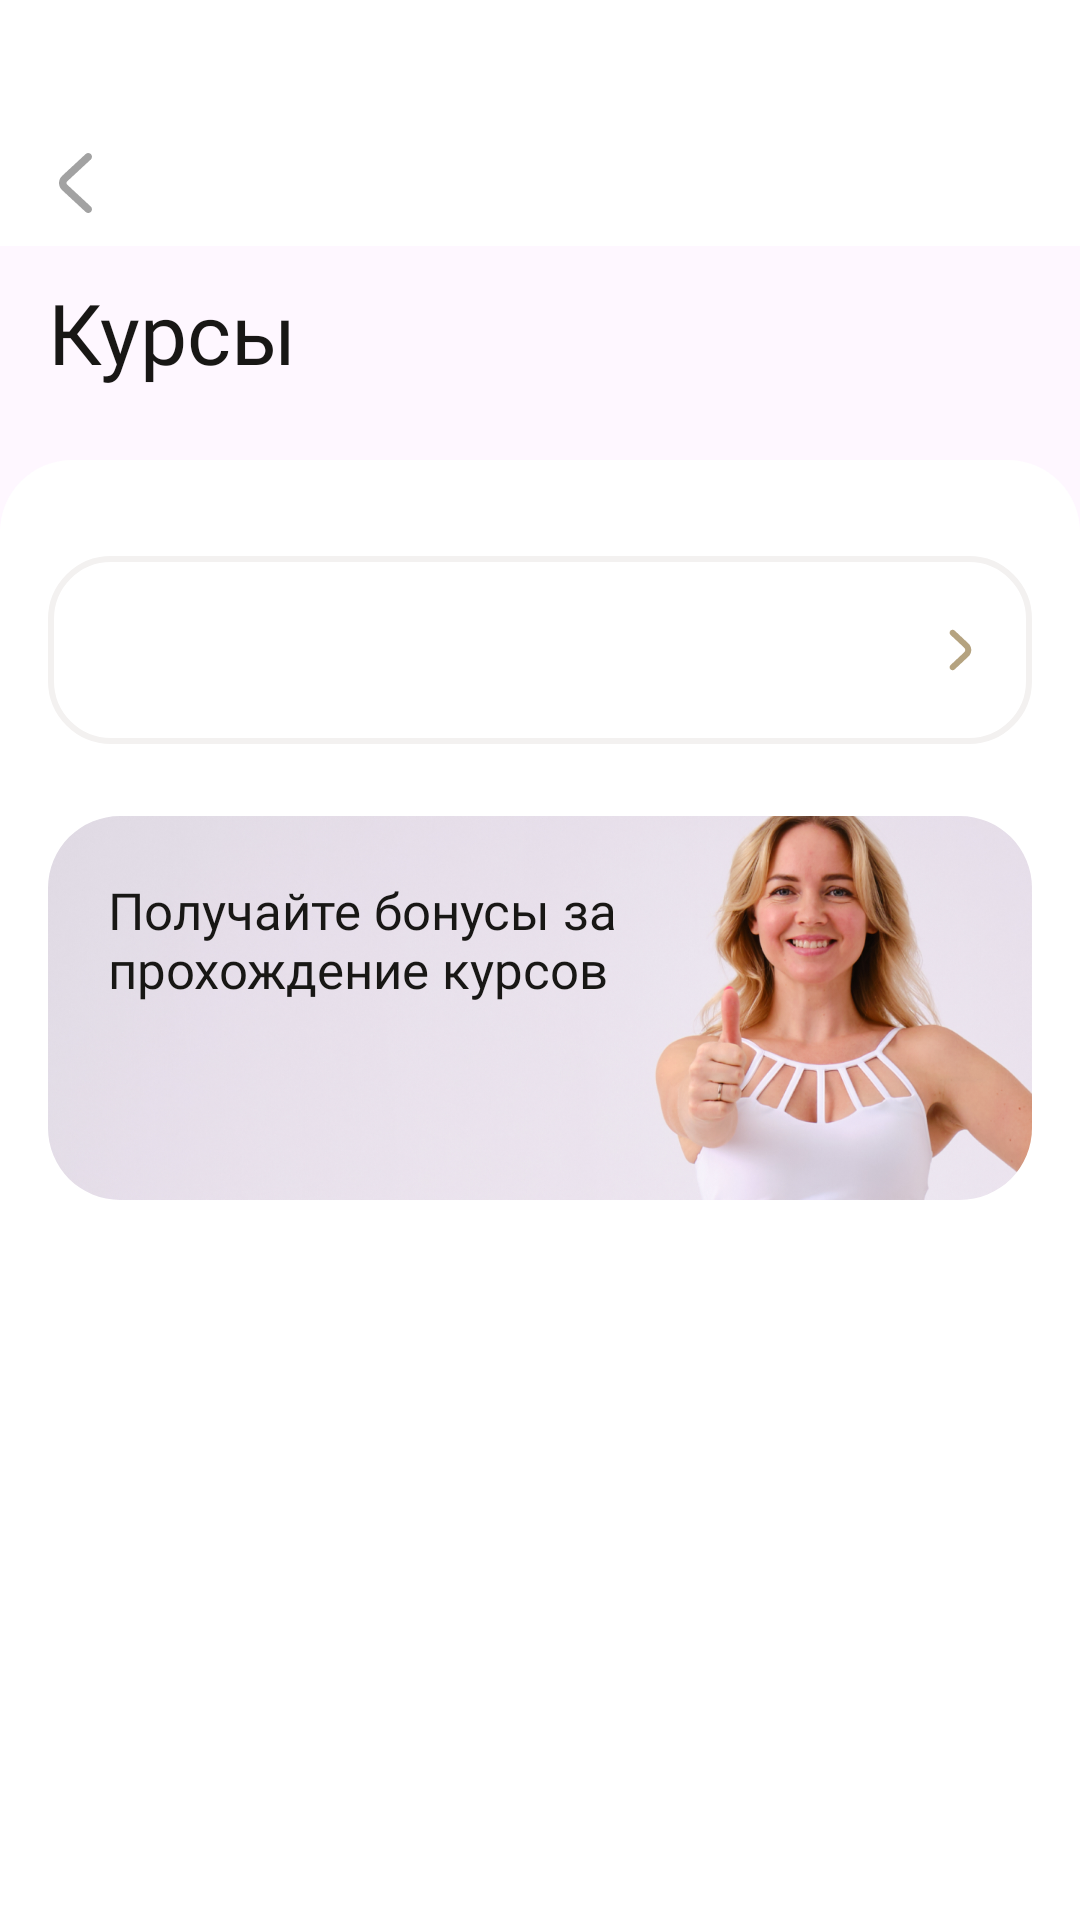

Icon click points for this 1080×1920 phone screenshot, format [x,y]:
back: [75,183]
right: [960,650]
